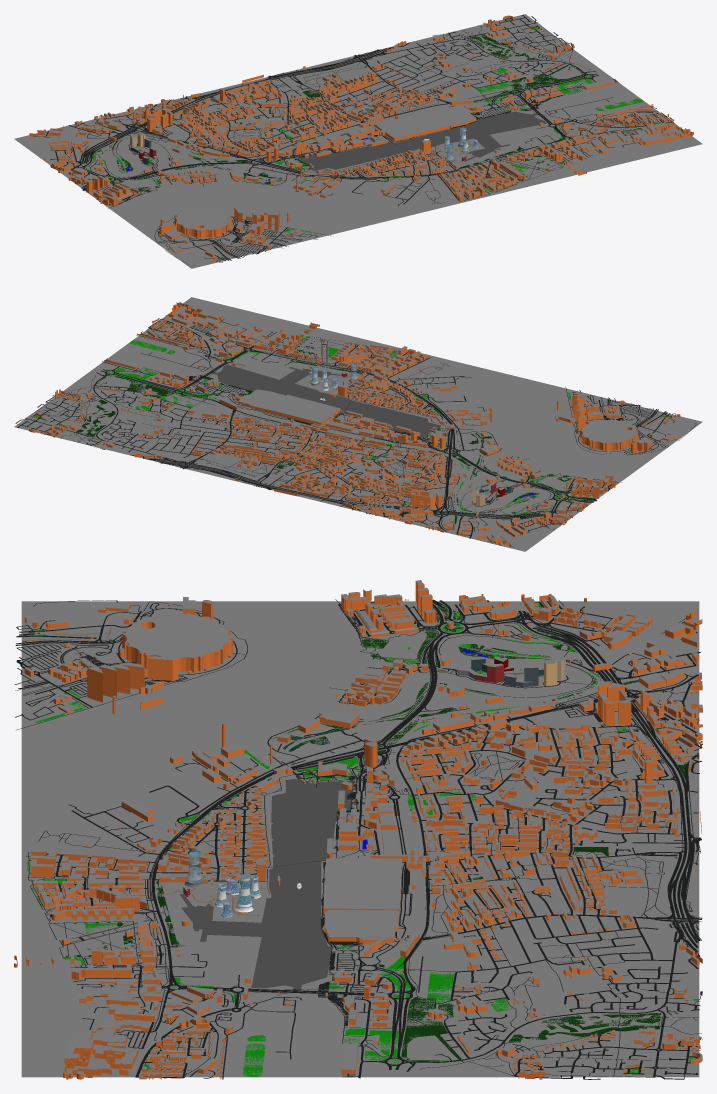
The model's file is version-2.glb.
3 views of the same model, one above another, from view 1: azimuth 30°, elevation 25°; view 2: azimuth 150°, elevation 25°; view 3: azimuth 270°, elevation 25° (orthographic). The views are drawn at different scales.
Visible parts, largest first — view 1: (none), wall, grey, roads_residential, Layer_water, roads_service, paths_footway, forest, roads_primary, vegetation, roads_tertiary, roads_trunk (+3 smaller); view 2: (none), wall, grey, roads_residential, Layer_water, roads_service, paths_footway, forest, roads_primary, vegetation, roads_trunk, paths_cycleway (+2 smaller); view 3: (none), wall, grey, Layer_water, roads_residential, paths_footway, roads_service, forest, vegetation, roads_primary, paths_cycleway, roads_trunk (+4 smaller).
Part boxes in pixels (x1,y1,x2,y2): (none): (14,14,702,268); wall: (29,16,693,262); grey: (44,15,690,257); roads_residential: (50,15,672,229); Layer_water: (298,111,546,171); roads_service: (39,31,658,262); paths_footway: (33,16,661,246); forest: (83,34,583,192); roads_primary: (73,55,672,182); vegetation: (58,19,661,258); roads_tertiary: (172,22,640,261); roads_trunk: (71,47,391,260); (none): (14,297,702,551); wall: (29,302,680,547); grey: (29,304,677,538); roads_residential: (15,319,609,530); Layer_water: (211,364,441,437); roads_service: (44,319,676,542); paths_footway: (16,321,640,547); forest: (76,337,595,525); roads_primary: (100,318,568,532); vegetation: (32,322,667,520); roads_trunk: (149,411,667,518); paths_cycleway: (60,324,696,524); (none): (21,601,699,1077); wall: (14,581,702,1079); grey: (25,580,702,1078); Layer_water: (180,778,354,990); roads_residential: (46,602,702,1079); paths_footway: (15,599,702,1079); roads_service: (14,600,701,1079); forest: (62,605,686,1061); vegetation: (27,603,698,1076); roads_primary: (135,614,701,1077); paths_cycleway: (16,600,702,1078); roads_trunk: (16,599,701,951).
Size of the model in its own units: 3572 by 245 by 2165.
